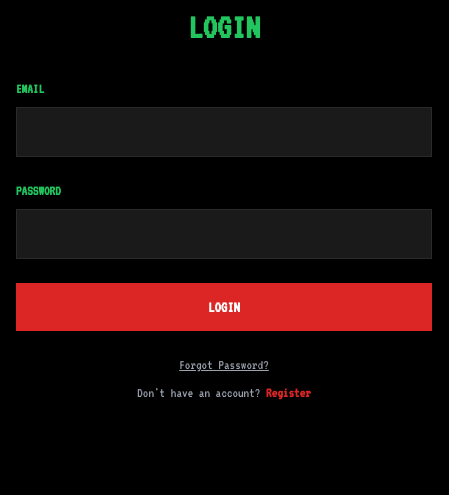
it: LoginPage › shows error from API on failure
Type "valid@example.com" into the field labelled "EMAIL".
click(224, 132); type("valid@example.com")  # box [16, 107, 432, 157]
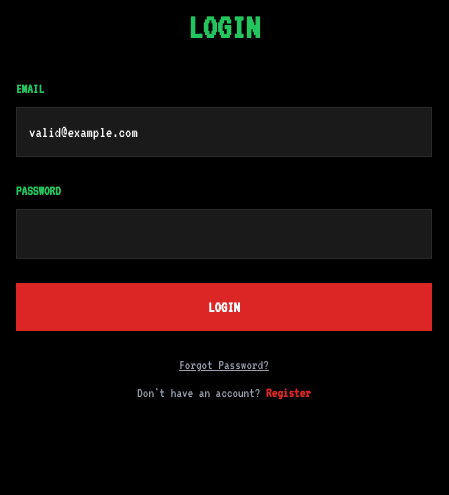
Type "ValidPass1!" into the password field labelled "PASSWORD".
click(224, 234); type("ValidPass1!")  # box [16, 209, 432, 259]
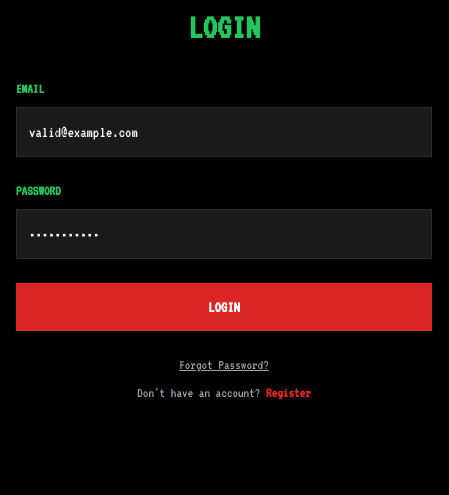
Click the button "LOGIN".
click(224, 307)  # box [16, 283, 432, 331]
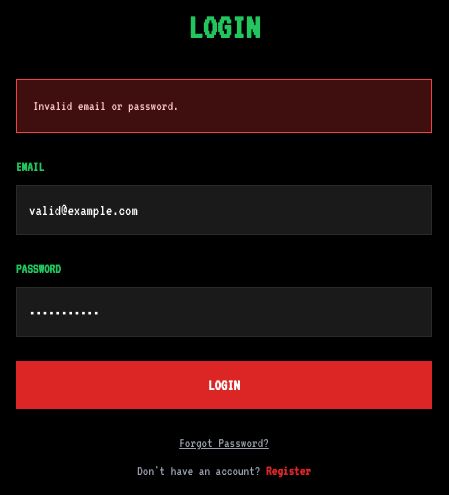
Expected: the text "Invalid email or password." is shown, [16, 79, 432, 133]
